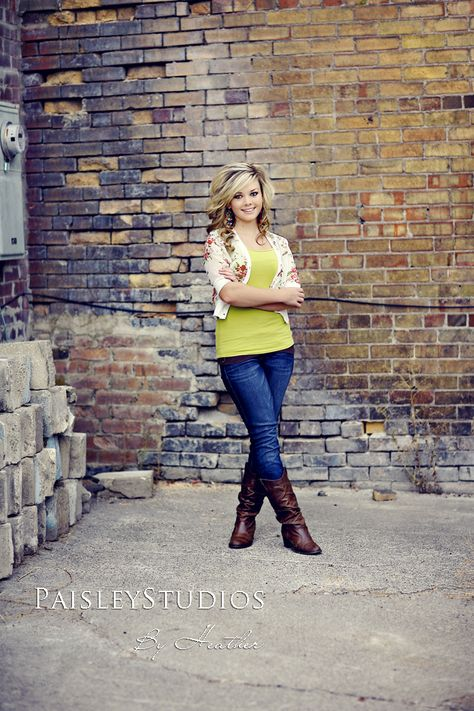person: (198, 160, 324, 565)
